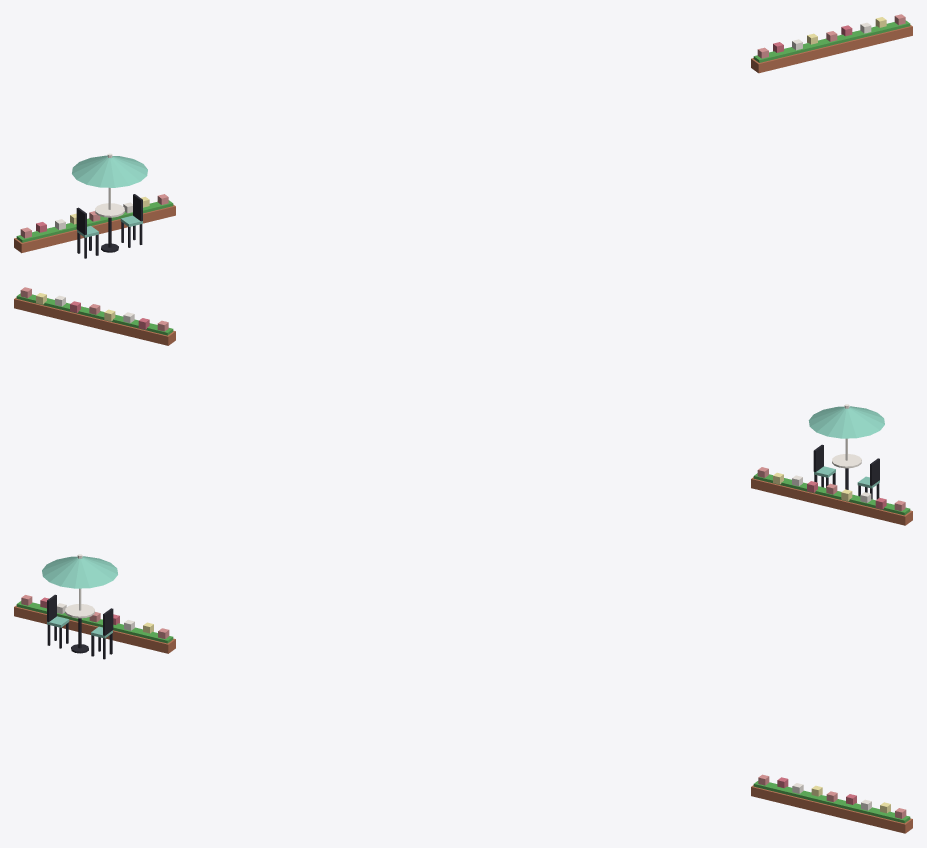
The model's file is CatCafe_Plot_Tier2_56x43.glb.
3 views of the same model, one above another, from view 1: azimuth 30°, elevation 25°; view 2: azimuth 150°, elevation 25°; view 3: azimuth 330°, elevation 25° (orthographic).
Visible parts, largest first — view 1: CatCafe_Plot_Tier2_56x43, CatCafe_Plot_Tier2_56x43_Bistro, CatCafe_Plot_Tier2_56x43_Flowers; view 2: CatCafe_Plot_Tier2_56x43, CatCafe_Plot_Tier2_56x43_Bistro, CatCafe_Plot_Tier2_56x43_Flowers; view 3: CatCafe_Plot_Tier2_56x43, CatCafe_Plot_Tier2_56x43_Bistro, CatCafe_Plot_Tier2_56x43_Flowers.
Part boxes in pixels (box(x1,y1,x2,y2)): CatCafe_Plot_Tier2_56x43: box(14, 14, 912, 253); CatCafe_Plot_Tier2_56x43_Bistro: box(72, 153, 147, 258); CatCafe_Plot_Tier2_56x43_Flowers: box(16, 20, 910, 242); CatCafe_Plot_Tier2_56x43: box(14, 287, 912, 525); CatCafe_Plot_Tier2_56x43_Bistro: box(808, 404, 884, 499); CatCafe_Plot_Tier2_56x43_Flowers: box(16, 293, 910, 515); CatCafe_Plot_Tier2_56x43: box(14, 595, 912, 833); CatCafe_Plot_Tier2_56x43_Bistro: box(42, 554, 117, 659); CatCafe_Plot_Tier2_56x43_Flowers: box(16, 601, 910, 823).
Size of the model in its own units: 50.8 by 5.15 by 3.8.
1 material, 1 textured.
